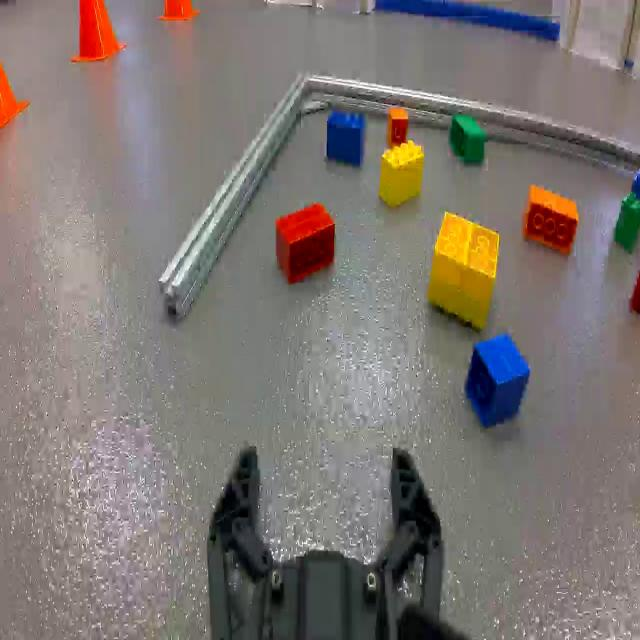block: (429, 212, 499, 330), (379, 140, 427, 210)
blue: (466, 332, 529, 431), (326, 108, 368, 170), (631, 169, 640, 195)
cone: (74, 0, 127, 68), (0, 54, 30, 134), (160, 0, 200, 26)
green: (448, 115, 488, 167), (611, 192, 640, 251)
metal barrier: (159, 70, 639, 323)
orange: (524, 182, 580, 256), (386, 108, 409, 146)
red goal: (275, 195, 337, 285), (630, 266, 640, 326)
river: (377, 0, 562, 51)
storage cube: (550, 0, 639, 76), (273, 0, 376, 17)
